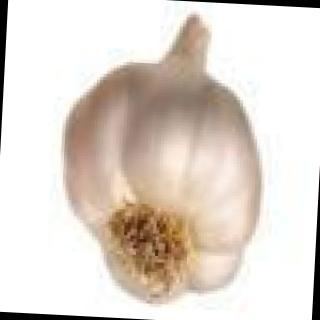Bawang Putih: (42, 2, 297, 305)
